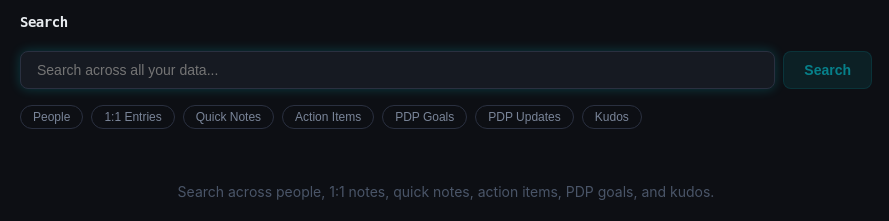
SearchPage › should show error message on search failure
The image size is (889, 221).
In the field with test id "search-input": (398, 70) [20,51,775,89], type "test"
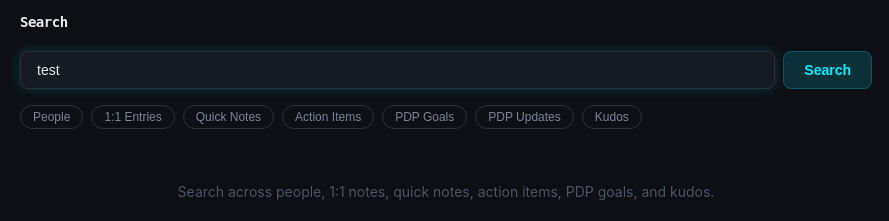
Submit the form with test id "search-input", box [20,51,872,89]
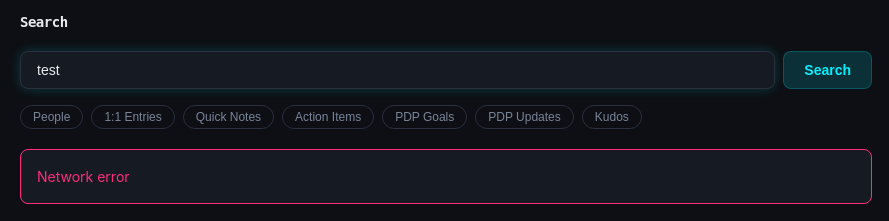
Expected: the text with test id "search-error" reads "Network error", [37,168,130,185]
